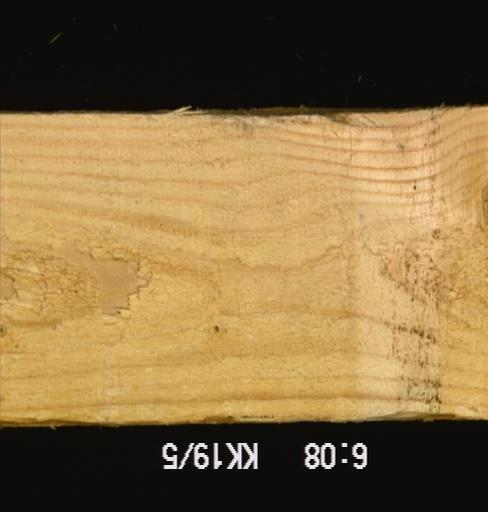small_knot: (0, 318, 11, 346), (209, 321, 222, 336)
wave: (171, 110, 365, 133), (353, 402, 486, 421), (194, 408, 242, 422)
